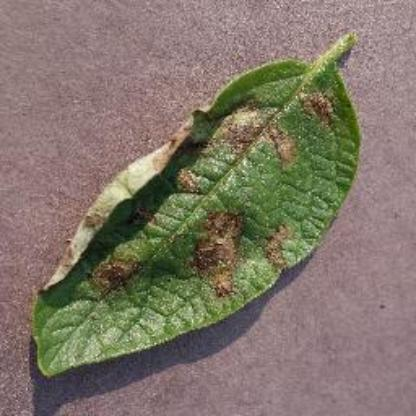Late-Blight: (18, 21, 392, 391)
